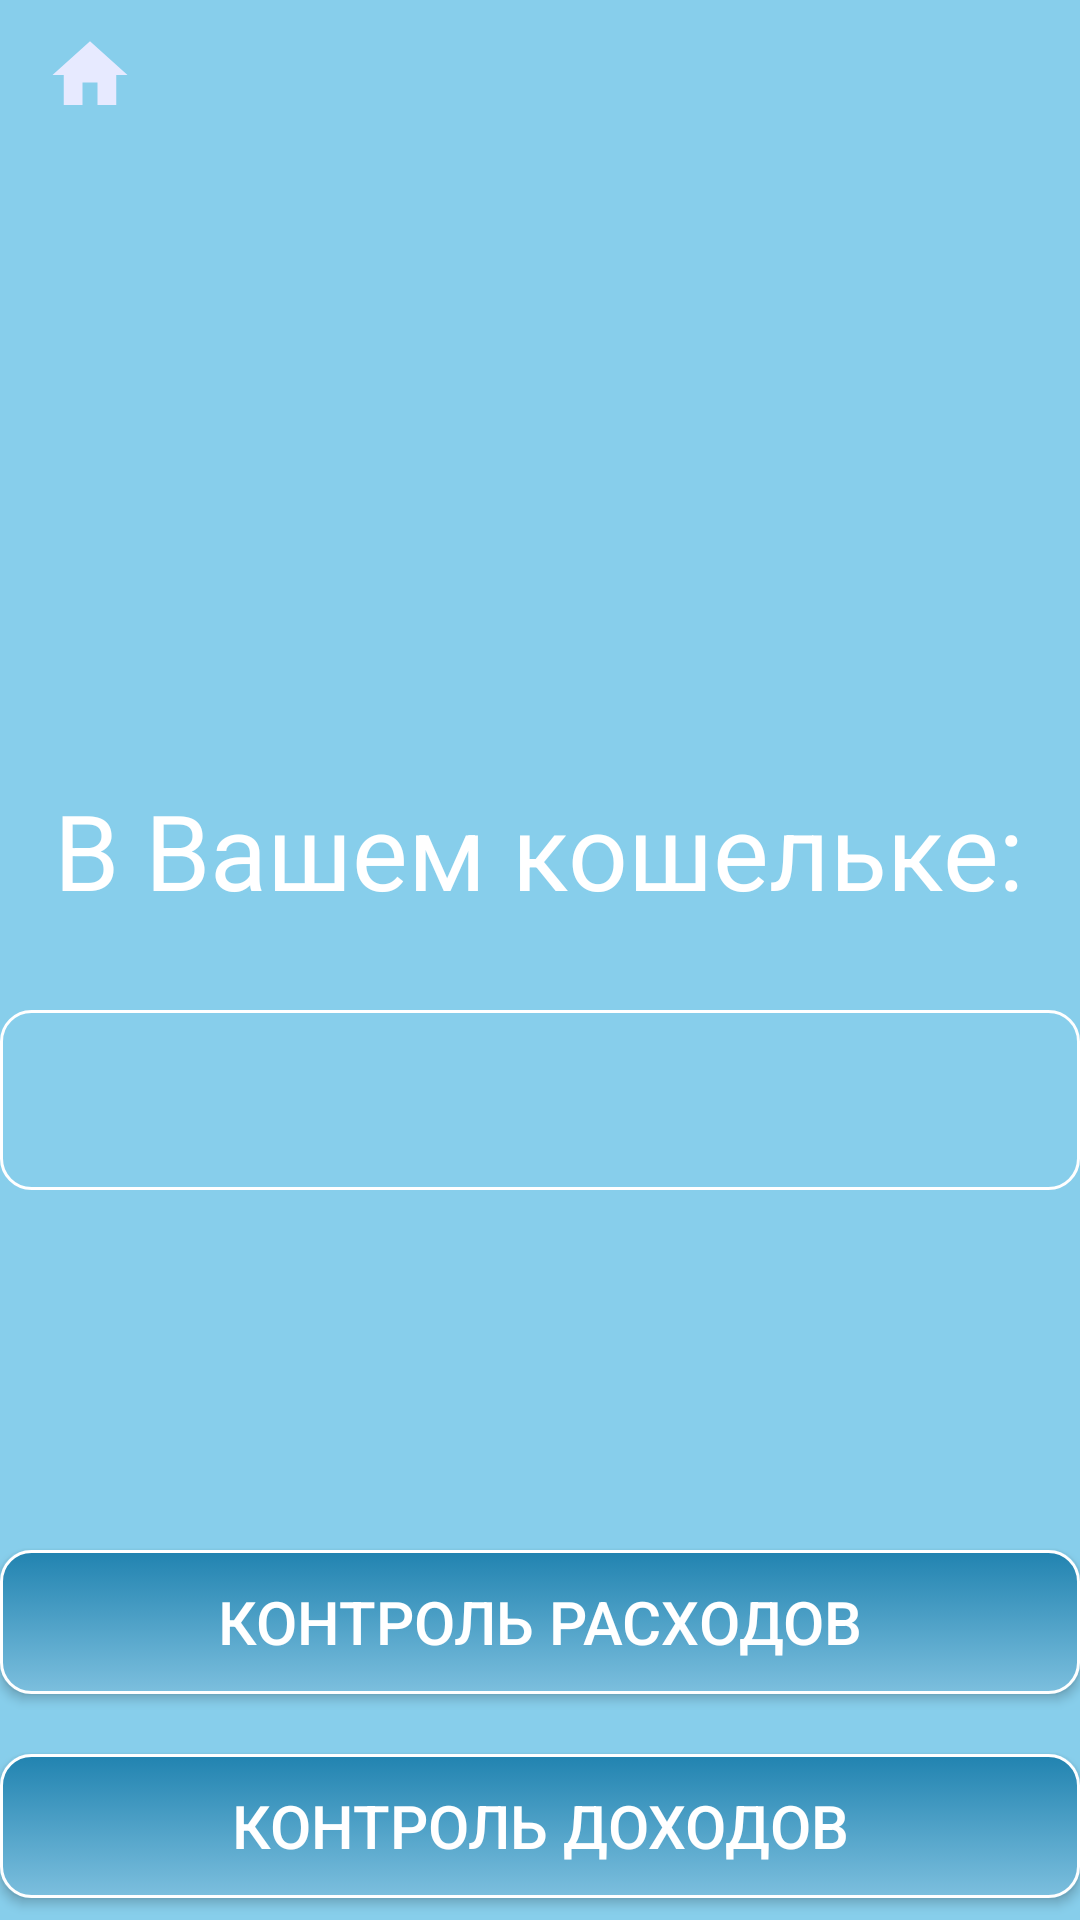

Icons on this 1080 x 1920 Android screen, each with its box as (x1, y1, x2, y2):
home: (53, 41, 127, 105)
